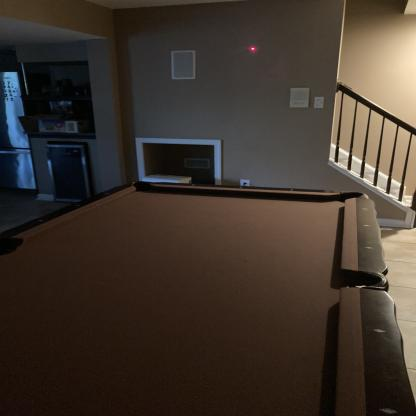target: (244, 42, 260, 55)
